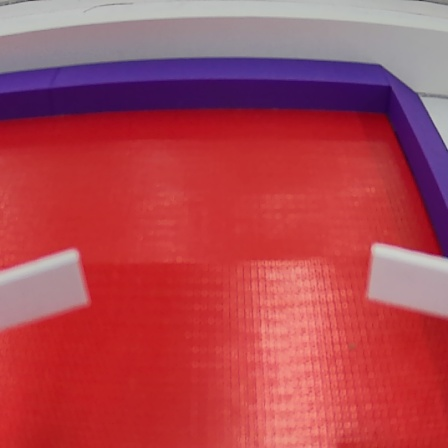red_aim: (1, 72, 448, 445)
